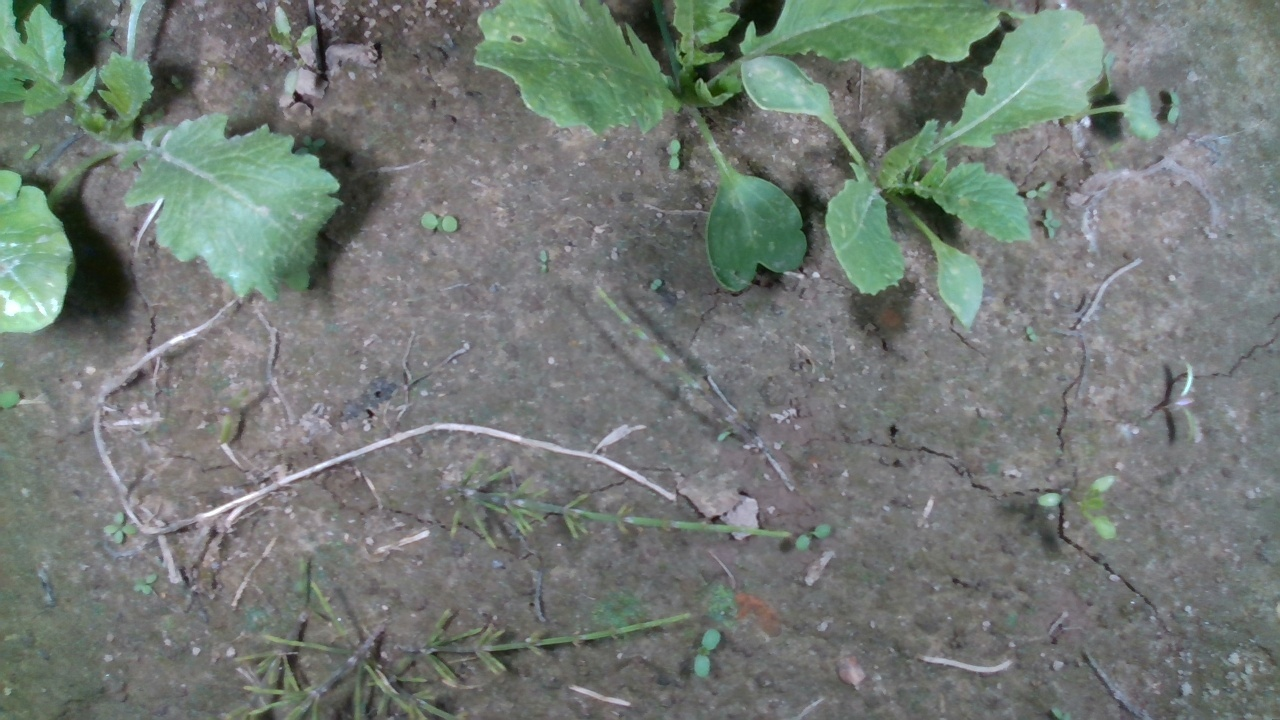weed: (215, 383, 253, 447), (1177, 359, 1197, 446), (692, 627, 722, 678), (794, 522, 832, 552), (102, 510, 135, 544), (418, 211, 460, 233), (1040, 206, 1061, 239), (1025, 179, 1053, 202), (1165, 89, 1181, 128), (132, 572, 158, 595), (1034, 489, 1064, 508), (665, 137, 681, 171), (538, 248, 549, 275), (648, 277, 664, 292)
